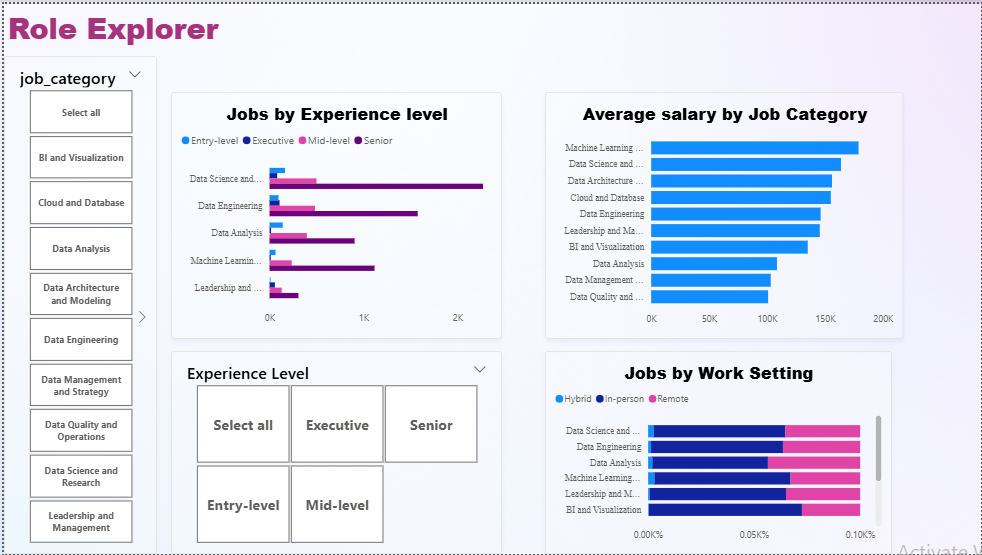

Layout of this report page (visuals, bound fields, positions):
{"tool":"powerbi","page":{"name":"Page 2","canvas":[1280,720],"ordinal":1},"visuals":[{"type":"barChart","title":"Average salary by Job Category","fields":{"Category":["Table1.job_category"],"Y":["Avg(Table1.salary_in_usd)"]},"box":[708.5,115.2,469.4,322.6],"z":0},{"type":"clusteredBarChart","title":" Jobs by Experience level","fields":{"Category":["Table1.job_category"],"Series":["Table1.experience_level"],"Y":["CountNonNull(Table1.job_title)"]},"box":[218.9,115.2,433.4,322.6],"z":1000},{"type":"hundredPercentStackedBarChart","title":"Jobs by Work Setting","fields":{"Y":["CountNonNull(Table1.job_title)"],"Category":["Table1.job_category"],"Series":["Table1.work_setting"]},"box":[708.5,453.6,453.6,266.4],"z":2000},{"type":"slicer","fields":{"Values":["Table1.job_category"]},"box":[0,67.7,200.2,652.3],"z":3000},{"type":"slicer","fields":{"Values":["Table1.experience_level"]},"box":[218.9,453.6,433.4,266.4],"z":4000},{"type":"textbox","box":[0,0,1280.2,67.7],"z":5000}]}

Visuals, with their boxes on the page's 1280x720 design canvas (x1, y1, x2, y2). These are canvas units, not pixel positions in the 982x555 screenshot, which may show the page scaled, cropped or inside an application window:
"Average salary by Job Category" barChart: region(708, 115, 1178, 438)
" Jobs by Experience level" clusteredBarChart: region(219, 115, 652, 438)
"Jobs by Work Setting" hundredPercentStackedBarChart: region(708, 454, 1162, 720)
slicer - Table1.job_category: region(0, 68, 200, 720)
slicer - Table1.experience_level: region(219, 454, 652, 720)
textbox: region(0, 0, 1280, 68)
